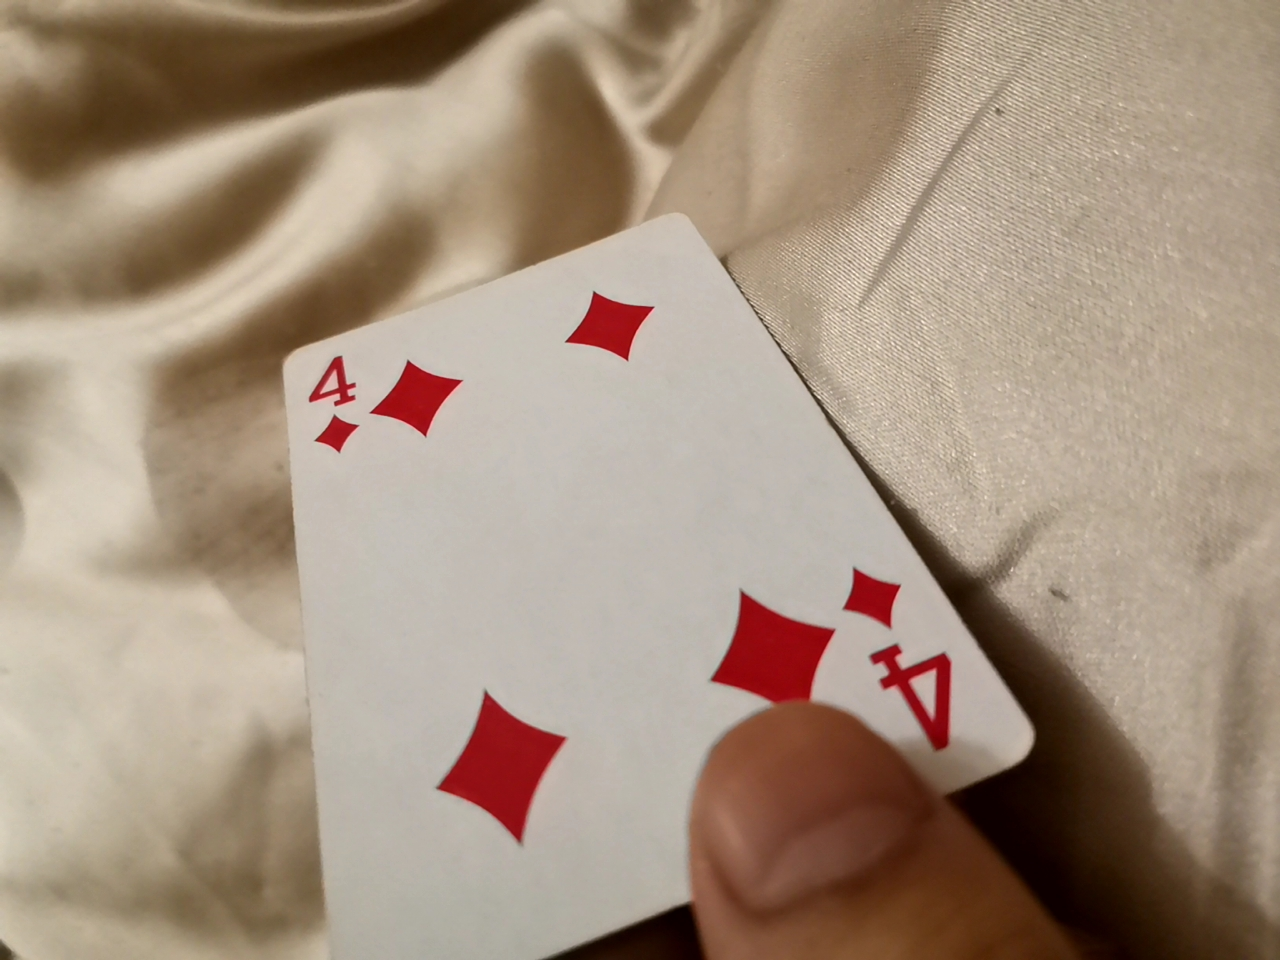fk 4: (246, 191, 1015, 956)
